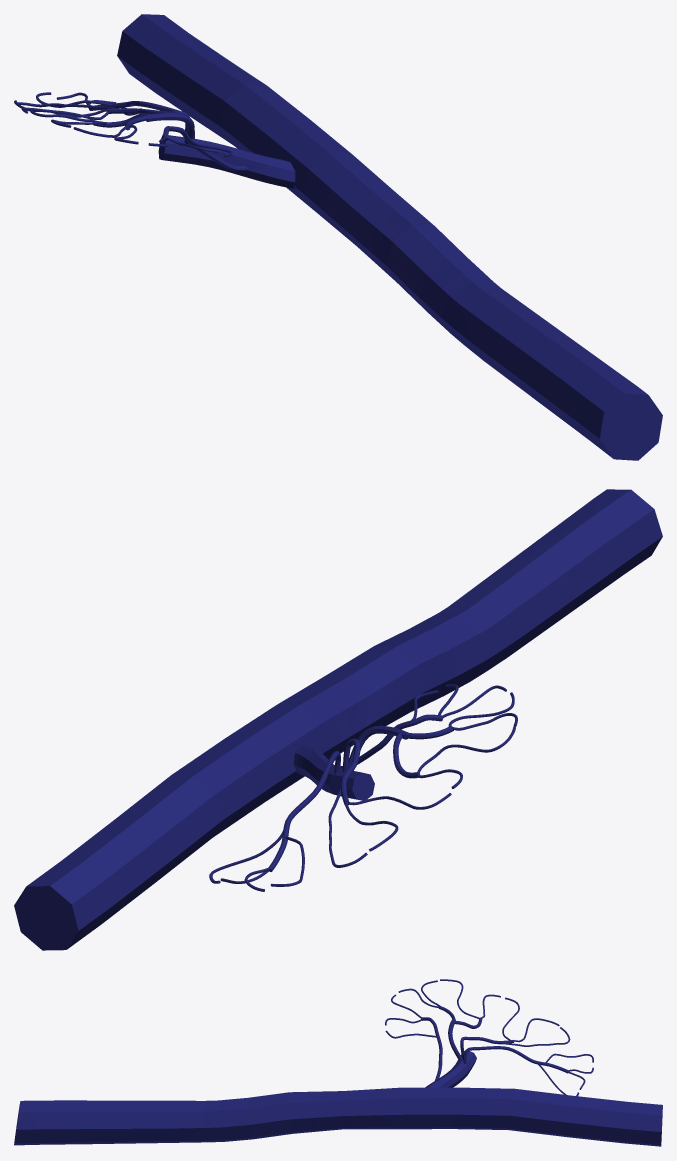
The model's file is vena_cava_with_renal_veins_chole.obj.
3 views of the same model, one above another, from view 1: azimuth 30°, elevation 25°; view 2: azimuth 150°, elevation 25°; view 3: azimuth 270°, elevation 25° (orthographic). The views are drawn at different scales.
Parts seen in each view (by area): view 1: vena_cava_with_renal_veins_chole_vena_cava.037; view 2: vena_cava_with_renal_veins_chole_vena_cava.037; view 3: vena_cava_with_renal_veins_chole_vena_cava.037.
Part boxes in pixels (bbox=[...]): vena_cava_with_renal_veins_chole_vena_cava.037: bbox=[14, 14, 662, 460]; vena_cava_with_renal_veins_chole_vena_cava.037: bbox=[14, 489, 662, 950]; vena_cava_with_renal_veins_chole_vena_cava.037: bbox=[14, 979, 662, 1146].
Bounding box in the file's own units: 4.98 × 2.45 × 15.43.
